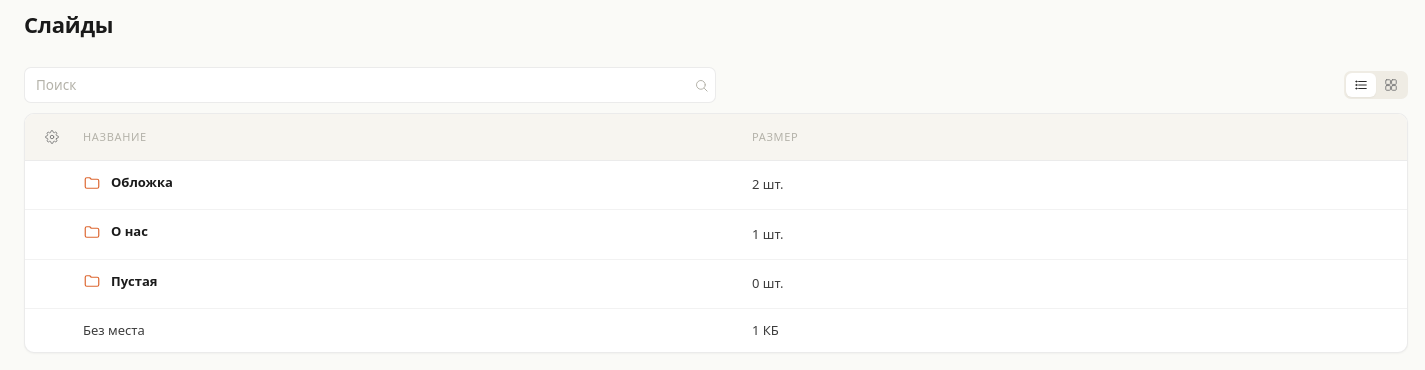
Scenario: ListPage с папками › клик по папке открывает её, крошки возвращают в корень
Step 1. Click the button "Обложка" → click(142, 183), box [111, 173, 173, 192]
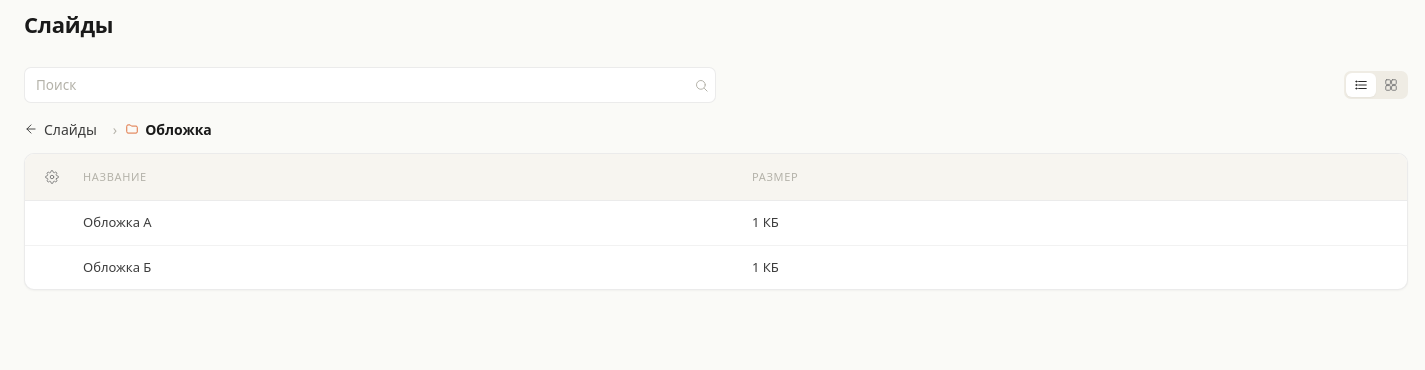
Now the text "Обложка А" is shown, box [69, 200, 738, 245]
Now the text "Обложка Б" is shown, box [69, 245, 738, 289]
Now the text "Без места" is gone
Step 2. Click the button "Слайды" → click(60, 129), box [16, 114, 105, 144]
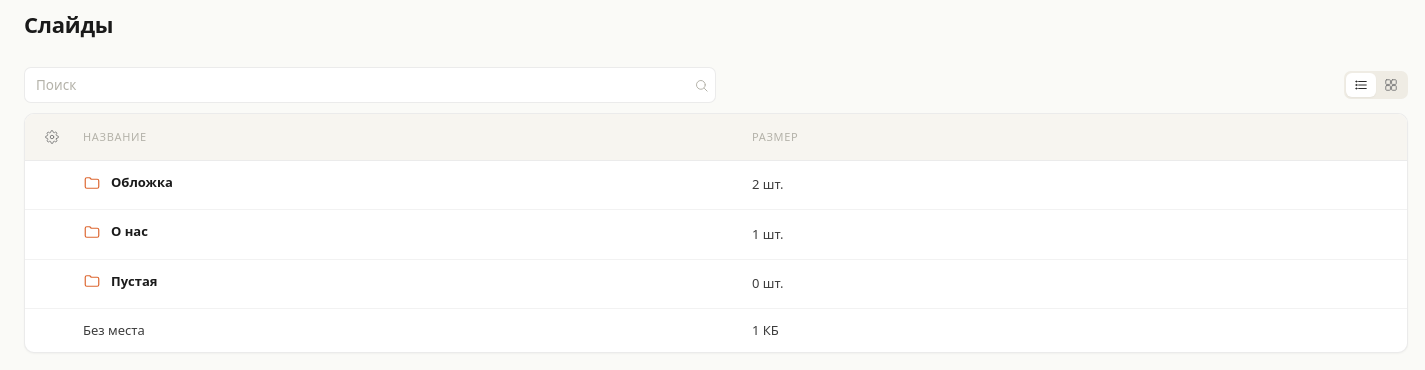
Now the text "Обложка А" is gone
